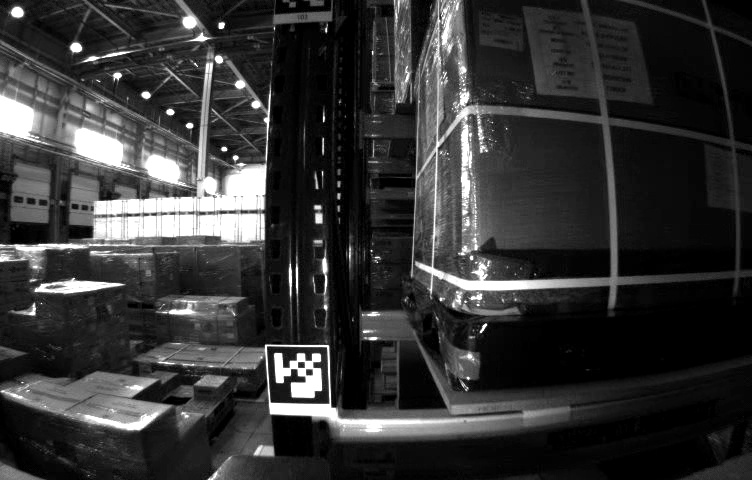True Barcode: (475, 6, 526, 55)
